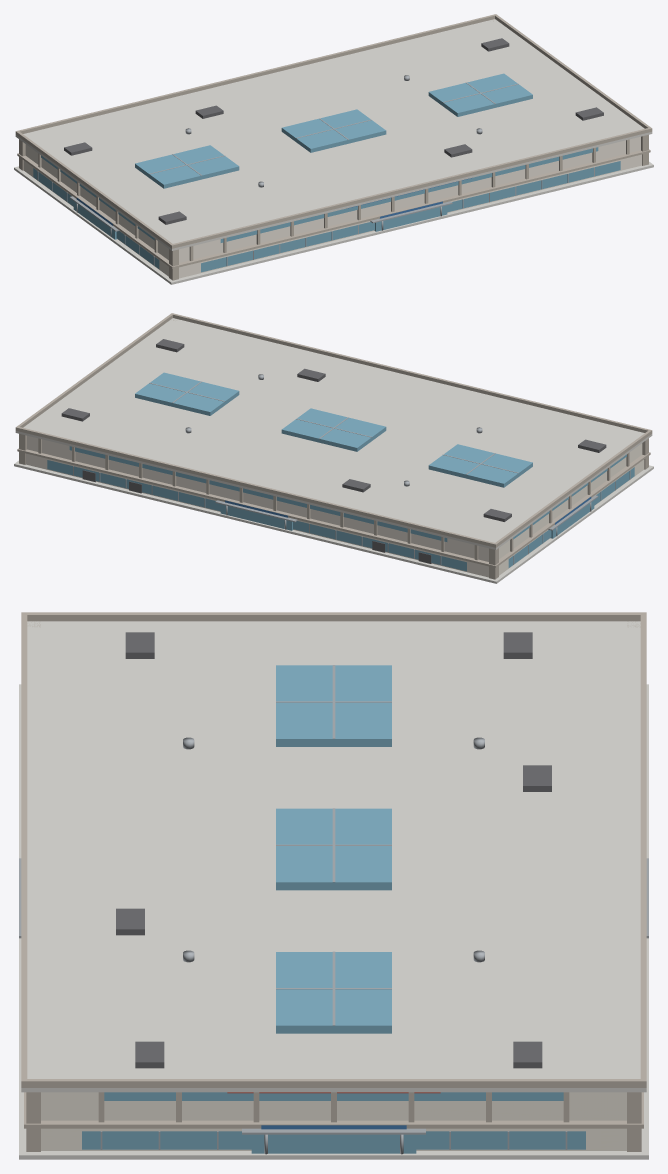
The model's file is shopping_mall.glb.
3 renders of one model, top to bottom at view 1: azimuth 30°, elevation 25°; view 2: azimuth 150°, elevation 25°; view 3: azimuth 270°, elevation 25°, orthographic. The views are drawn at different scales.
Parts seen in each view (by area): view 1: Merged_ConcreteLight, Merged_FacadeGlass, Merged_FacadeAccent, Merged_FacadeMain, Merged_PropsMetal, Merged_RoofDark; view 2: Merged_ConcreteLight, Merged_FacadeGlass, Merged_FacadeAccent, Merged_FacadeMain, Merged_RoofDark, Merged_PropsMetal; view 3: Merged_ConcreteLight, Merged_FacadeGlass, Merged_FacadeAccent, Merged_FacadeMain, Merged_RoofDark, Merged_PropsMetal.
Boxes of the visible parts, x1=… form: Merged_ConcreteLight: x1=14, y1=19, x2=653, y2=284; Merged_FacadeGlass: x1=33, y1=73, x2=620, y2=272; Merged_FacadeAccent: x1=15, y1=14, x2=652, y2=280; Merged_FacadeMain: x1=23, y1=136, x2=641, y2=278; Merged_PropsMetal: x1=37, y1=75, x2=594, y2=266; Merged_RoofDark: x1=64, y1=38, x2=603, y2=224; Merged_ConcreteLight: x1=14, y1=318, x2=653, y2=583; Merged_FacadeGlass: x1=47, y1=372, x2=634, y2=571; Merged_FacadeAccent: x1=15, y1=313, x2=652, y2=579; Merged_FacadeMain: x1=26, y1=435, x2=644, y2=577; Merged_RoofDark: x1=61, y1=339, x2=606, y2=563; Merged_PropsMetal: x1=73, y1=374, x2=630, y2=565; Merged_ConcreteLight: x1=19, y1=621, x2=648, y2=1159; Merged_FacadeGlass: x1=82, y1=665, x2=585, y2=1153; Merged_FacadeAccent: x1=21, y1=612, x2=646, y2=1151; Merged_FacadeMain: x1=41, y1=1092, x2=626, y2=1150; Merged_RoofDark: x1=116, y1=632, x2=551, y2=1068; Merged_PropsMetal: x1=19, y1=665, x2=648, y2=1154.
Bounding box in the file's own units: 230 × 18 × 130.
